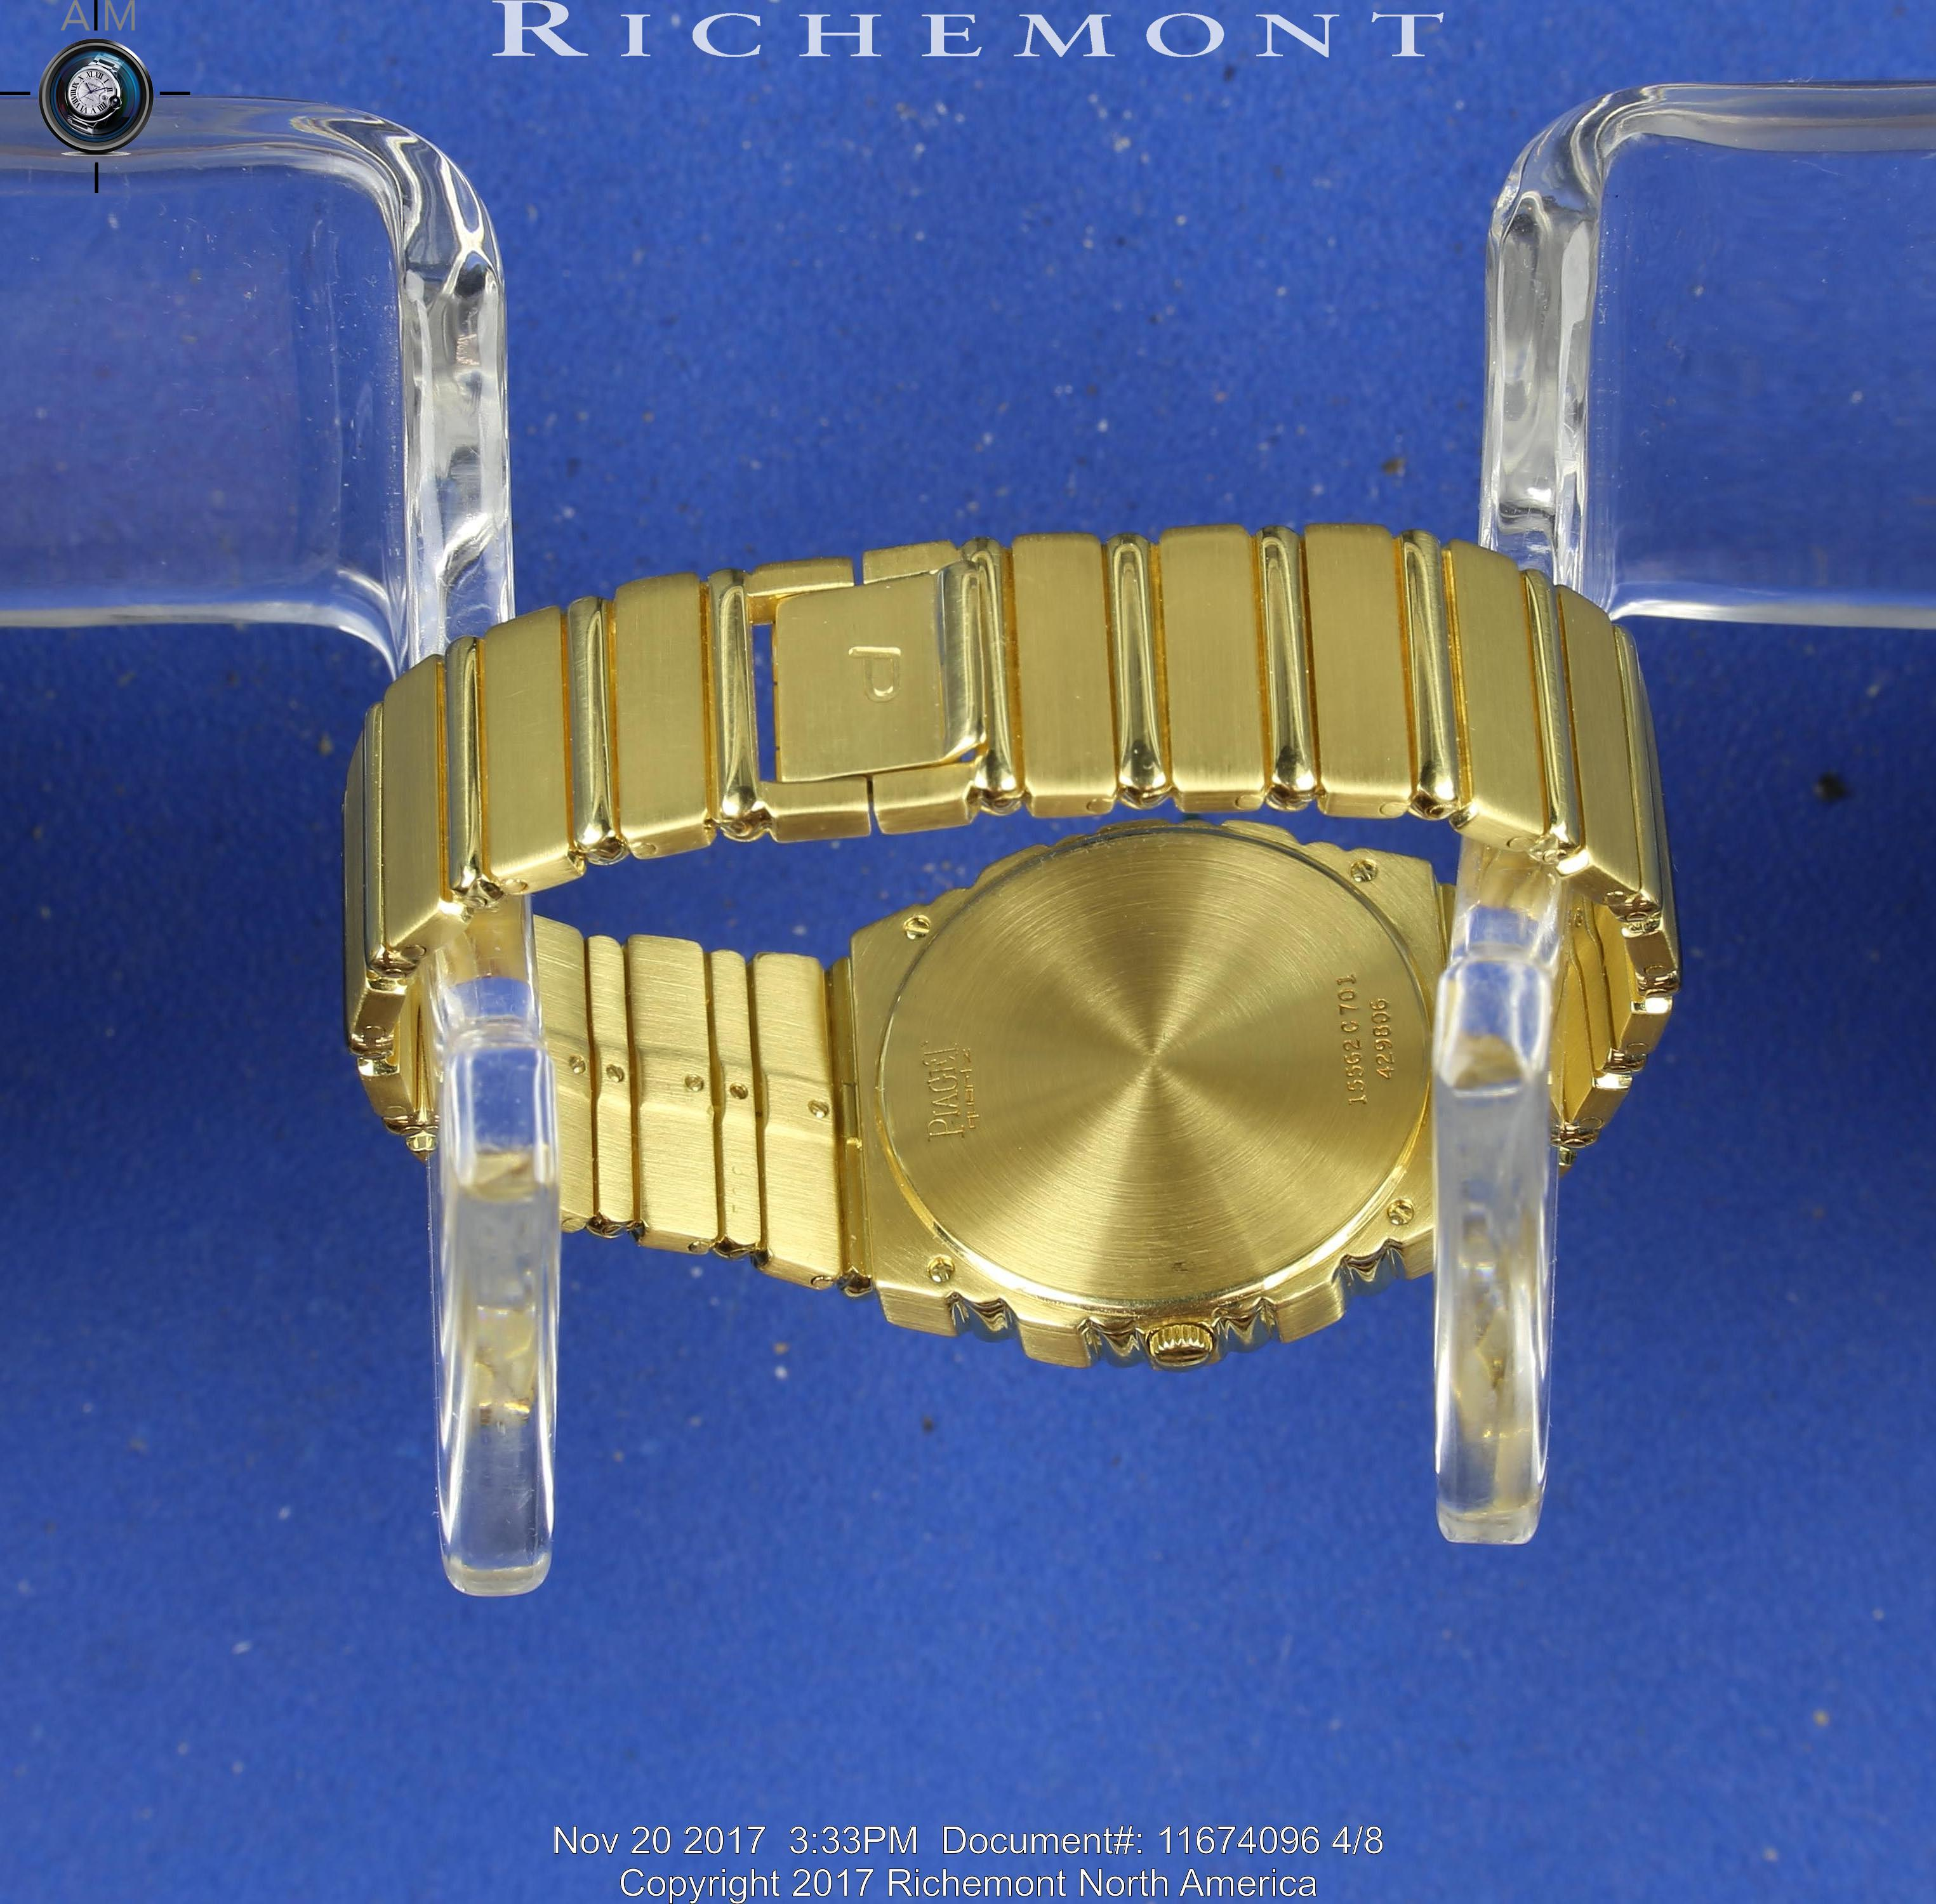Watch BackCase: (827, 835, 1435, 1377)
